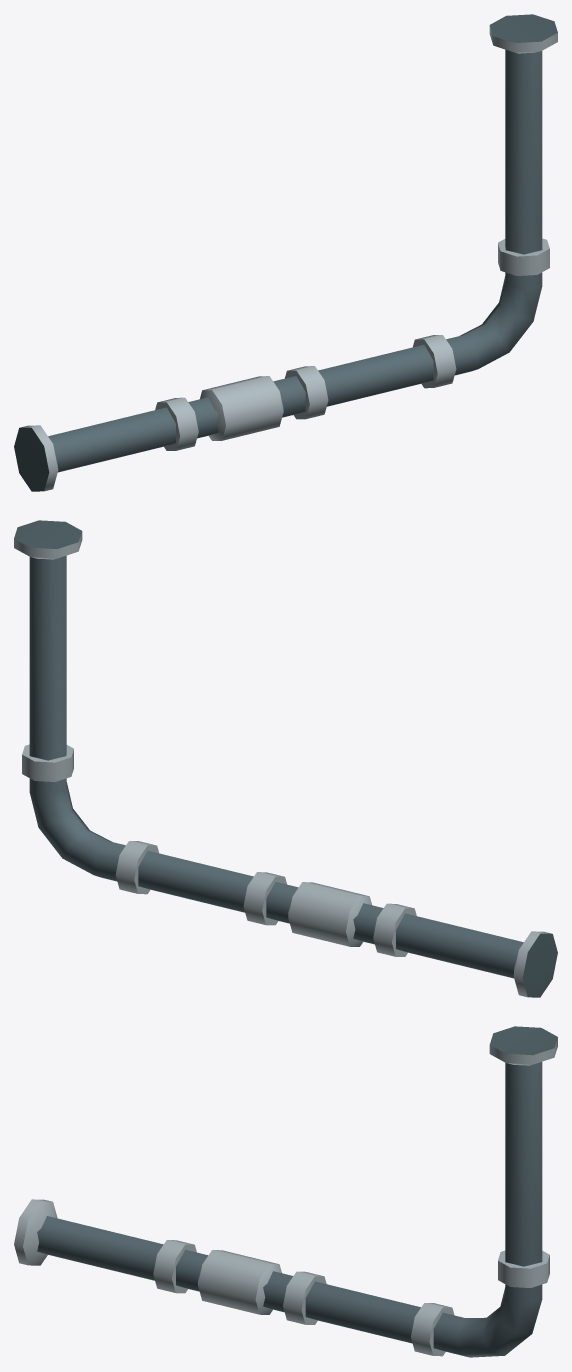
The model's file is Pipe_007.fbx.
The picture shows the model from 3 angles, top to bottom: view 1: azimuth 30°, elevation 25°; view 2: azimuth 150°, elevation 25°; view 3: azimuth 330°, elevation 25°; orthographic projection.
Visible parts, largest first — view 1: Pipe_007; view 2: Pipe_007; view 3: Pipe_007.
Boxes of the visible parts, x1,y1,x2,y2 form: Pipe_007: (14,14,557,491); Pipe_007: (14,520,557,997); Pipe_007: (14,1026,557,1357).
Size of the model in its own units: 218 by 25.5 by 136.
